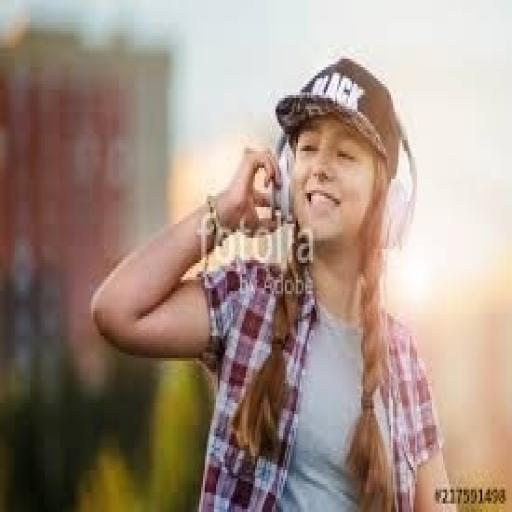listening_to_music: (90, 53, 456, 509)
